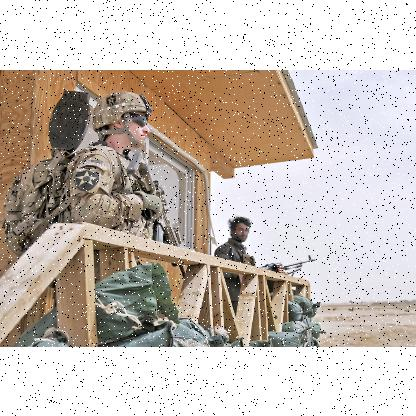gun: (128, 152, 182, 272), (258, 252, 316, 276)
